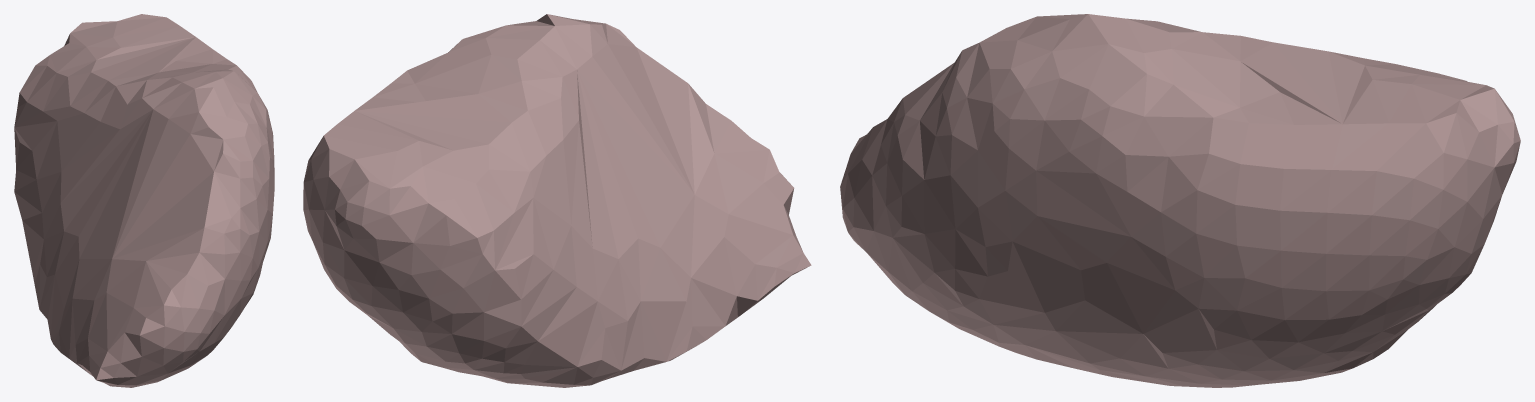
The model's file is Model_473_RH__Dorsal_cochlear_nucleus_(DC).obj.
3 views of the same model, side by side, from view 1: azimuth 30°, elevation 25°; view 2: azimuth 150°, elevation 25°; view 3: azimuth 270°, elevation 25° (orthographic). The views are drawn at different scales.
Size of the model in its own units: 0.9945 by 0.9161 by 1.43.
